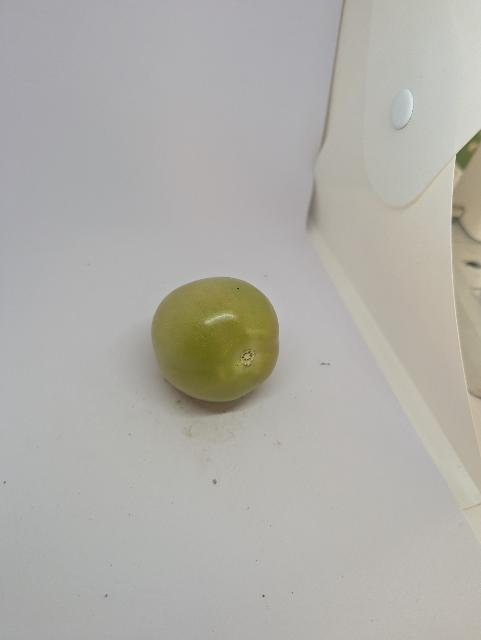green: (149, 275, 282, 404)
